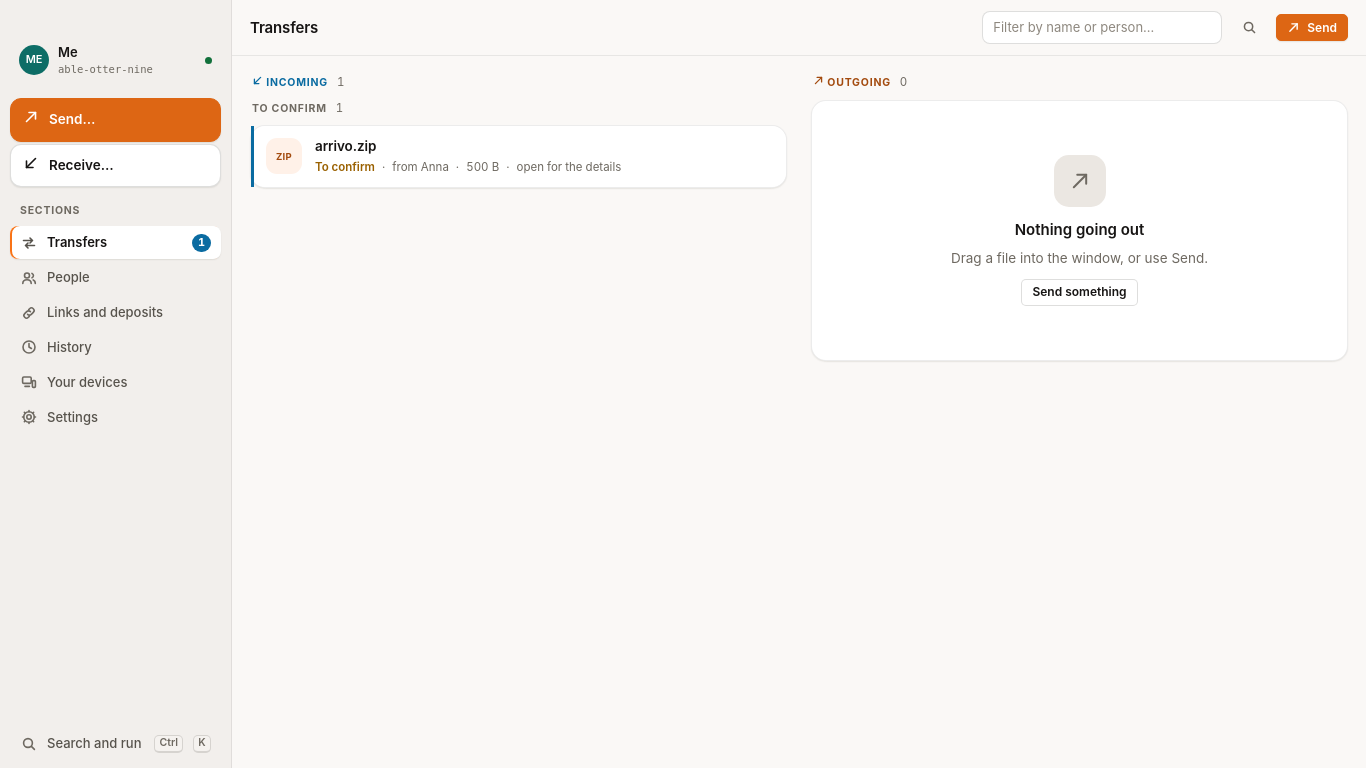
Test: an incoming offer › 150. a second offer proposes its own sender's name, not the first one's
Click the text "arrivo.zip". click: (346, 146)
box: [315,138,376,154]
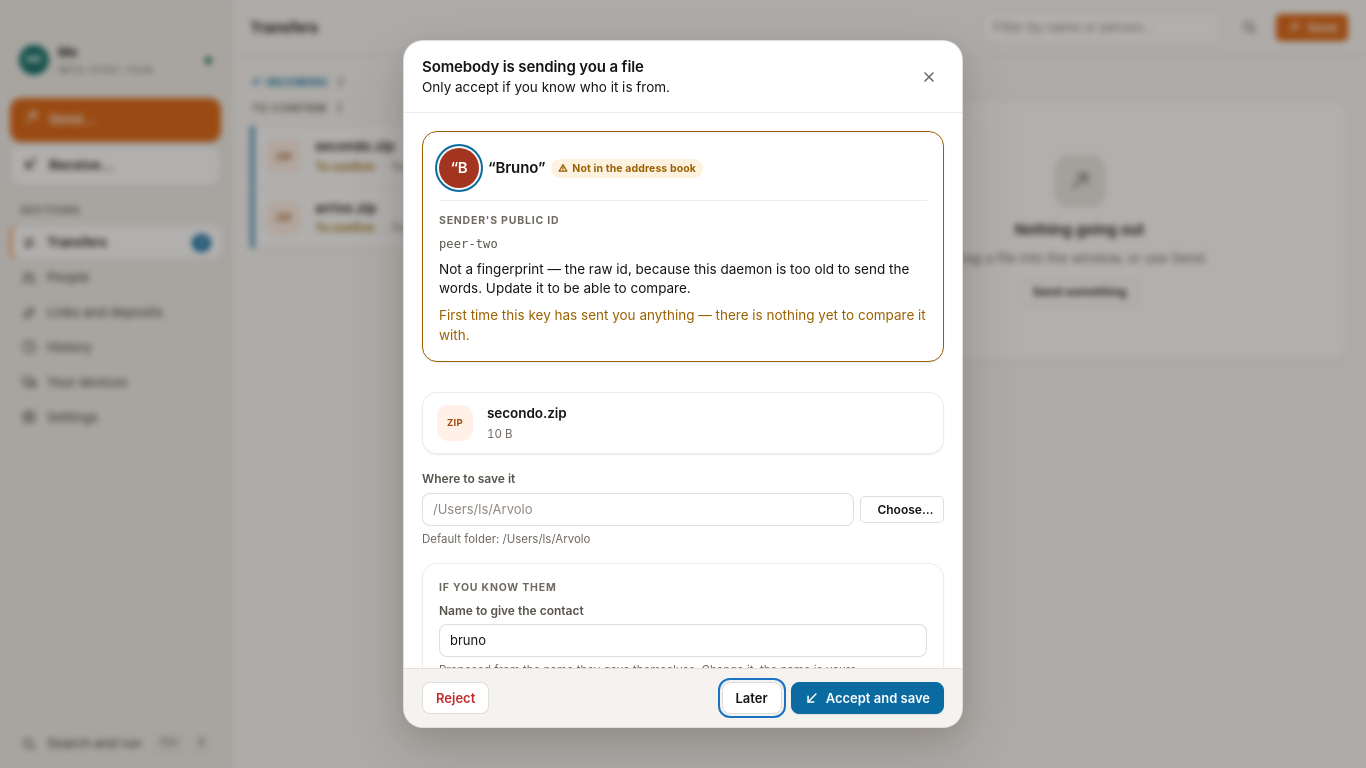
Expected: the field labelled "Name to give the contact" holds "bruno", [439,624,927,657]
